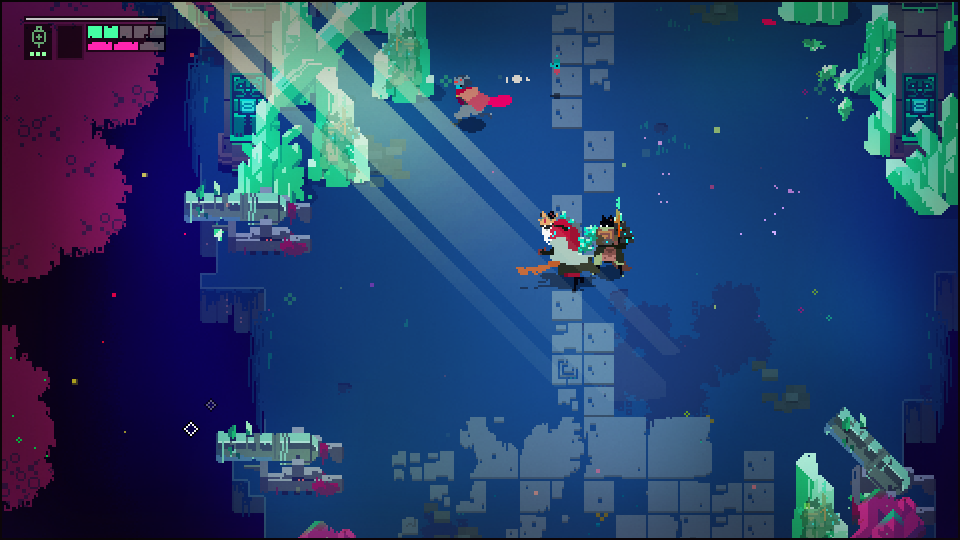hanged_man: (518, 203, 586, 284)
player: (451, 75, 485, 118)
